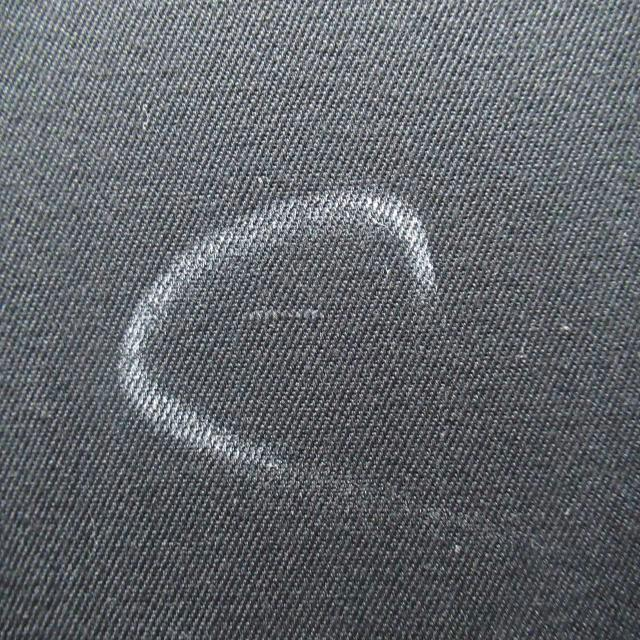pulled_or_thick_thread: (232, 315, 340, 337)
